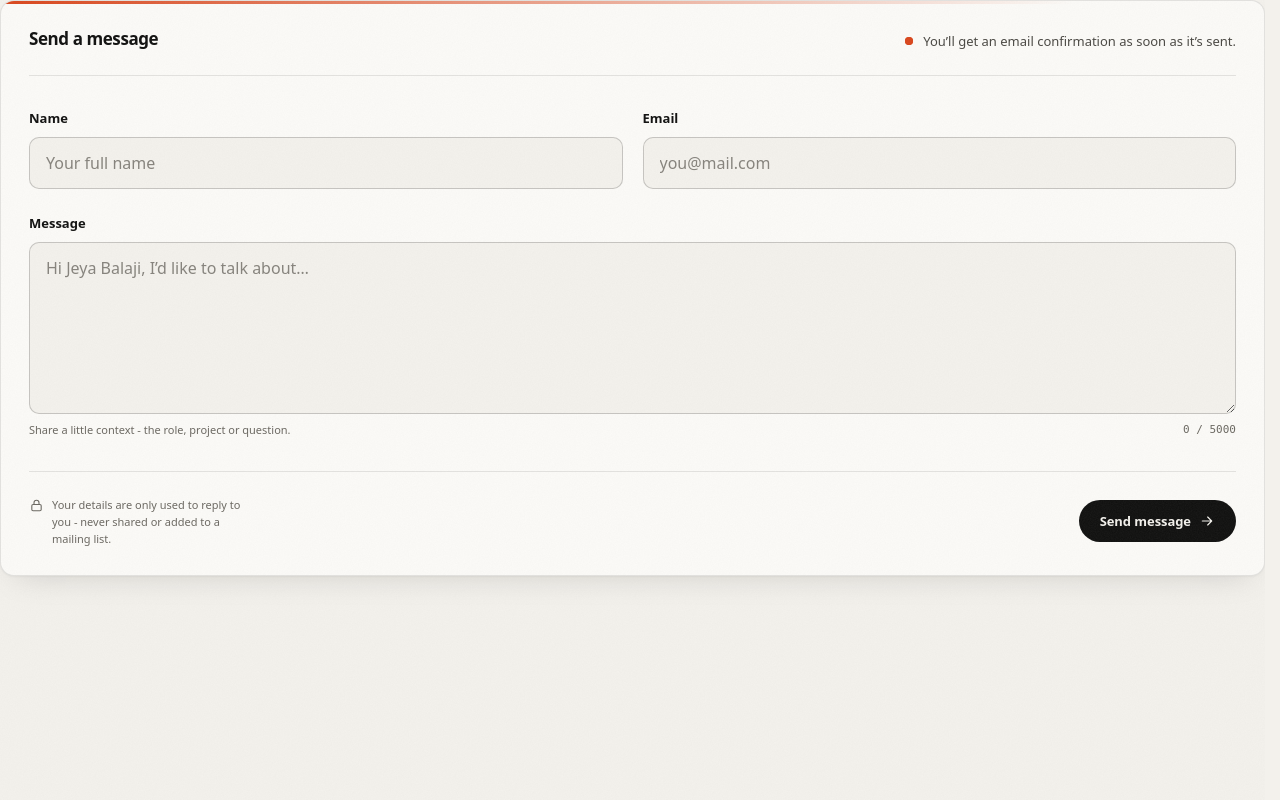
Test: ContactForm › shows field errors returned by the API
This screenshot has width=1280, height=800.
In the field labelled "Name": (326, 163) [29,137,622,189], type "  Ada Lovelace "
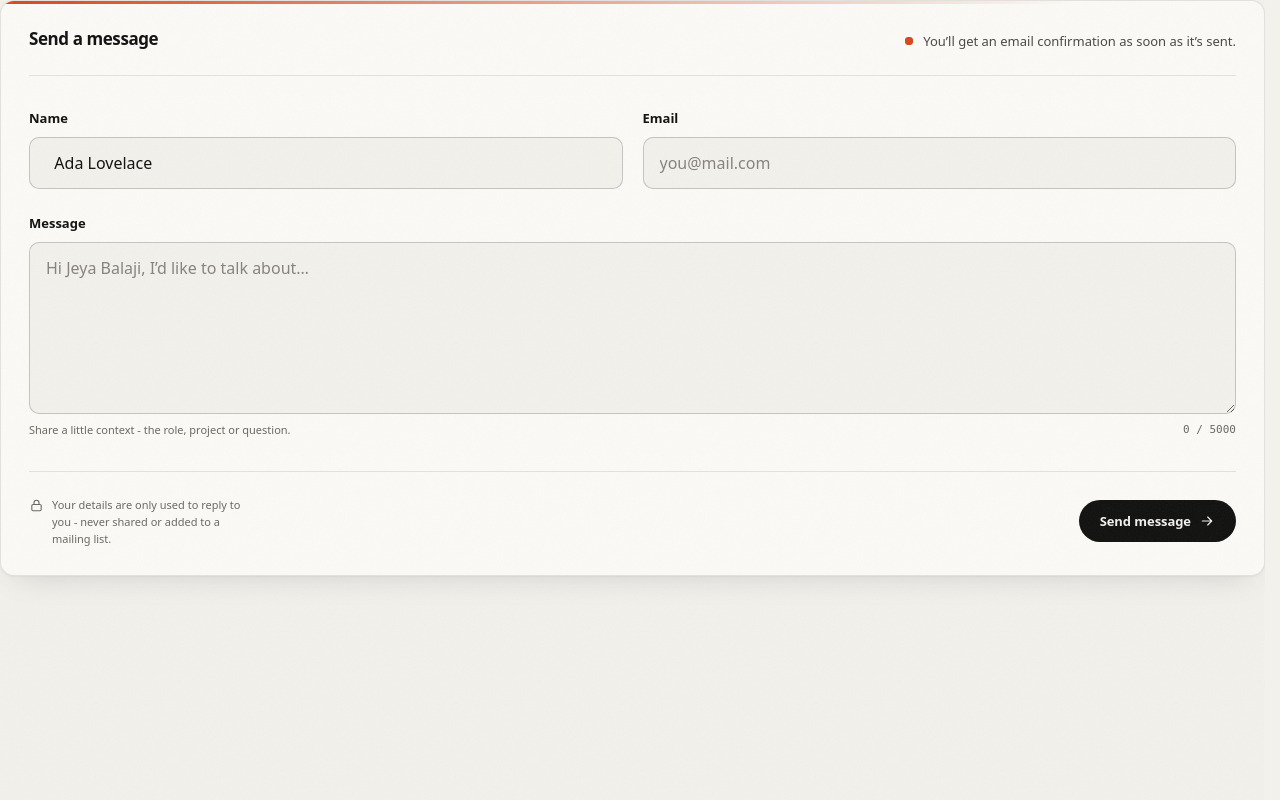
In the field labelled "Email": (939, 163) [642,137,1236,189], type "ada@example.com"
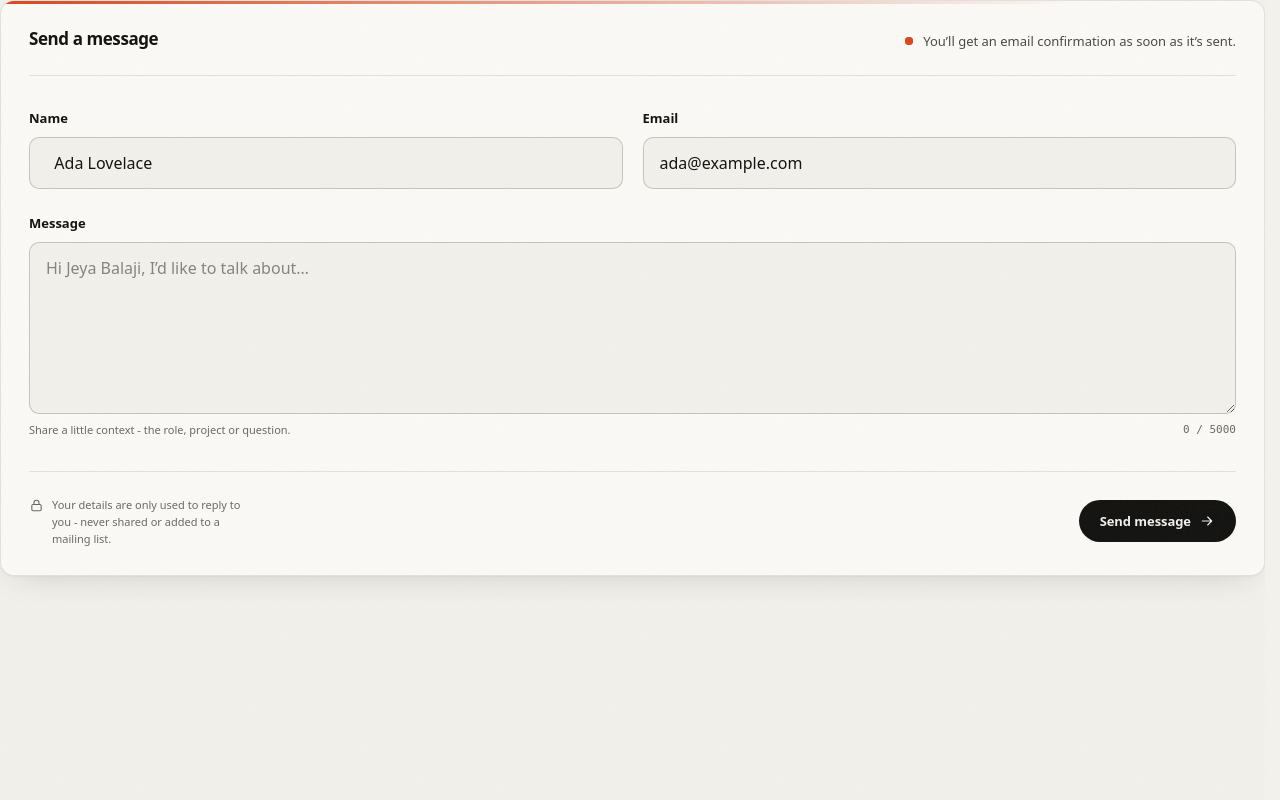
In the text box labelled "Message": (632, 328) [29,242,1236,414], type "I have a React dashboard that needs a rebuild."
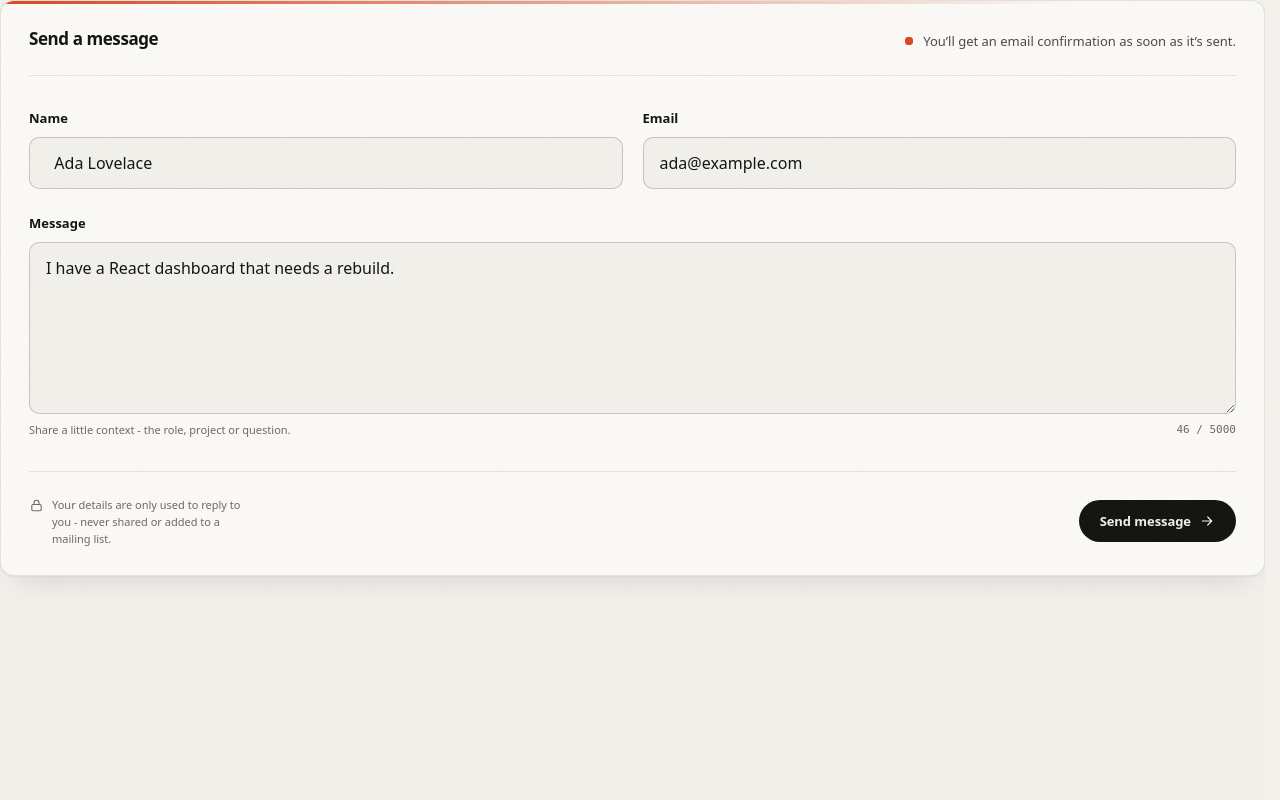
Click the button "Send message": (1157, 521) [1079,500,1236,542]
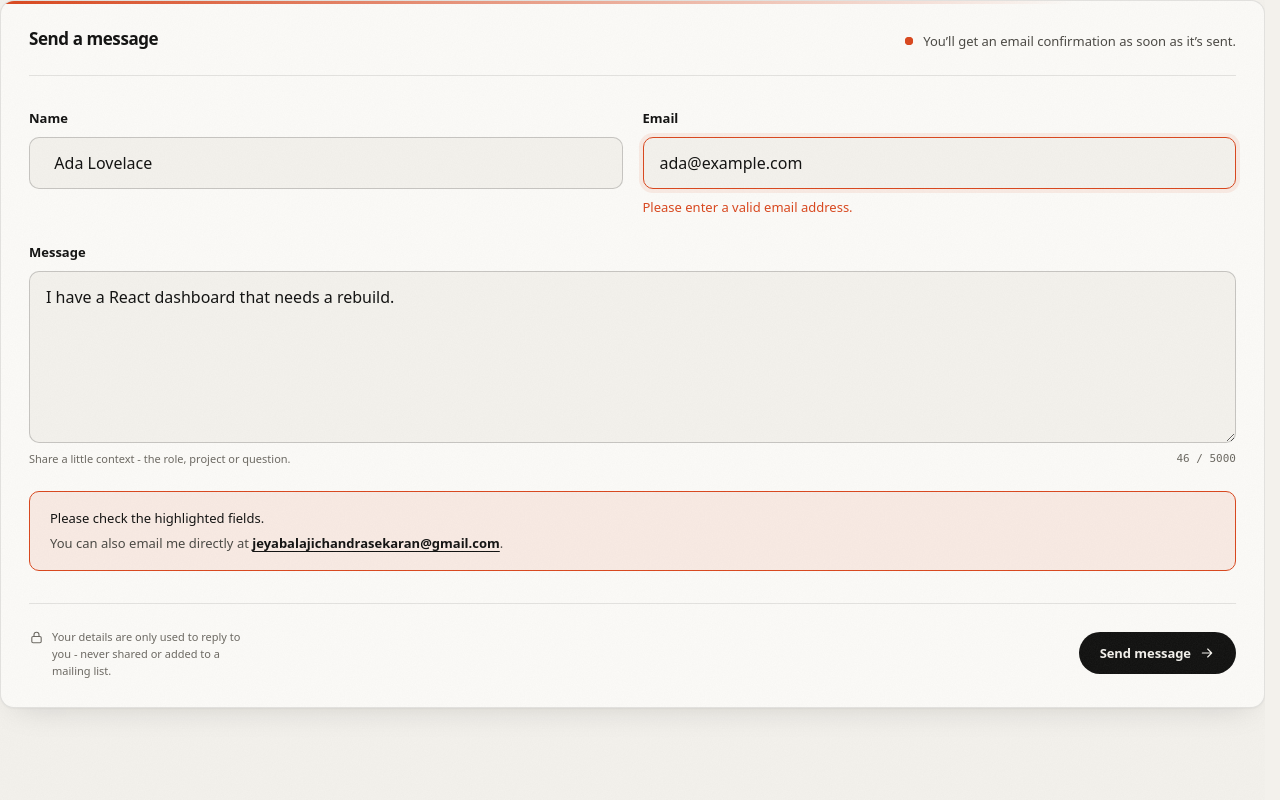
Now the message shows "Please check the highlighted fields.", box [50,509,264,527]
